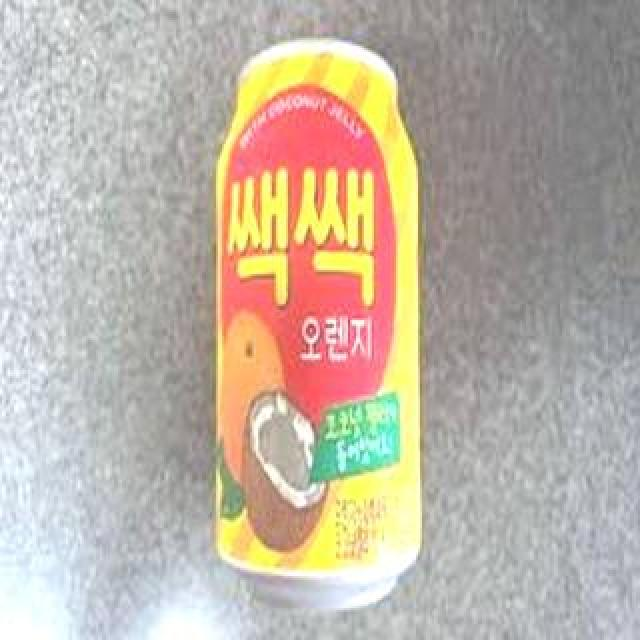Can: (205, 34, 433, 616)
